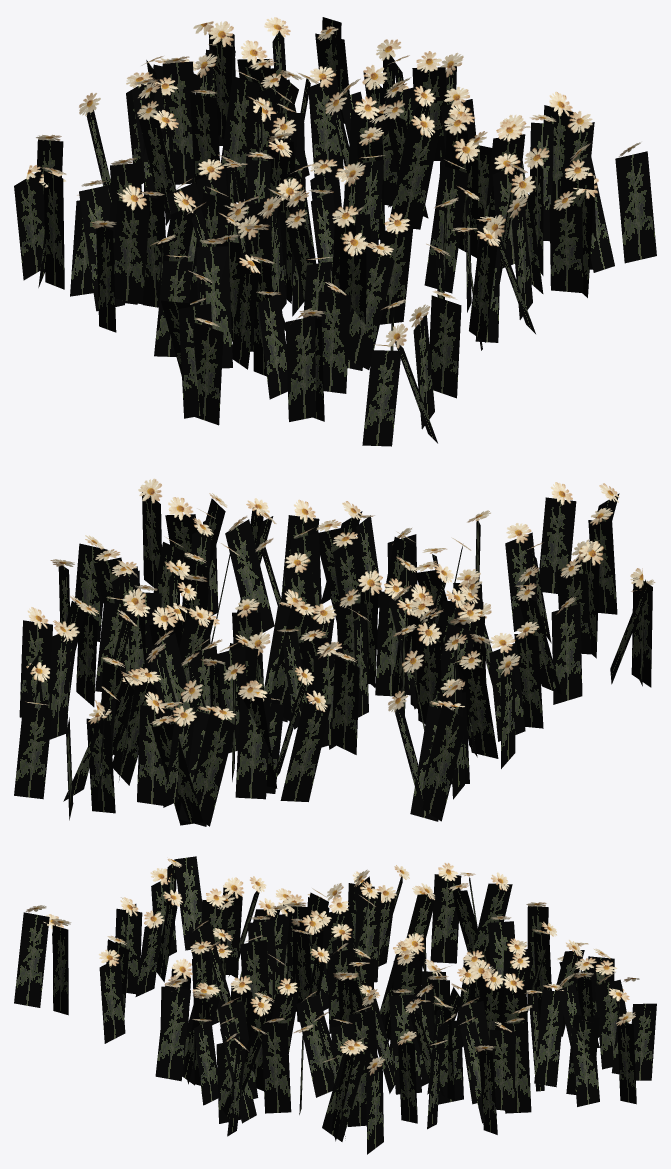
File: daisies.glb
The picture shows the model from 3 angles, top to bottom: view 1: azimuth 30°, elevation 25°; view 2: azimuth 150°, elevation 25°; view 3: azimuth 270°, elevation 25°; orthographic projection. The views are drawn at different scales.
Parts seen in each view (by area): view 1: daisy2-lambert21SG, daisy2-lambert22SG; view 2: daisy2-lambert21SG, daisy2-lambert22SG; view 3: daisy2-lambert21SG, daisy2-lambert22SG.
Part boxes in pixels (<box>): daisy2-lambert21SG: <box>14,17,656,446</box>; daisy2-lambert22SG: <box>26,17,640,348</box>; daisy2-lambert21SG: <box>14,492,652,826</box>; daisy2-lambert22SG: <box>25,478,655,726</box>; daisy2-lambert21SG: <box>14,856,656,1154</box>; daisy2-lambert22SG: <box>26,858,639,1075</box>.
Bounding box in the file's own units: 8.67 × 2.32 × 11.32.
2 materials, 2 textured.
